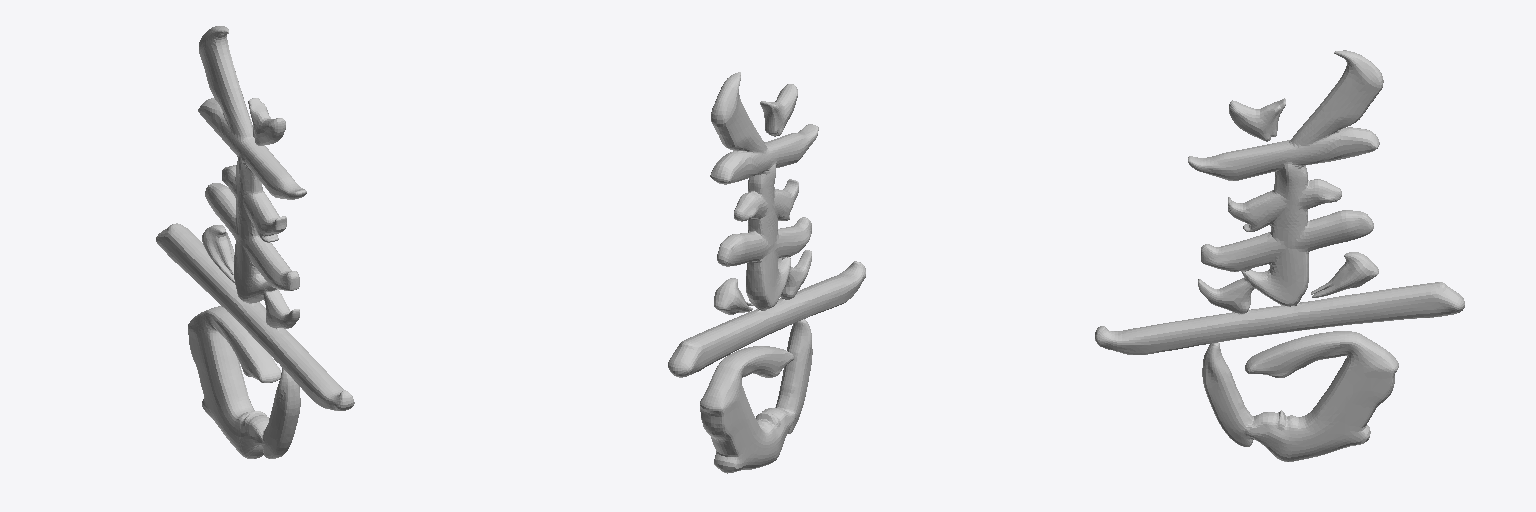
3 views of the same model, side by side, from view 1: azimuth 30°, elevation 25°; view 2: azimuth 150°, elevation 25°; view 3: azimuth 270°, elevation 25° (orthographic).
Parts seen in each view (by area): view 1: tripo_node_184fd539-cbdd-4ba3-a321-fec2ba57341b; view 2: tripo_node_184fd539-cbdd-4ba3-a321-fec2ba57341b; view 3: tripo_node_184fd539-cbdd-4ba3-a321-fec2ba57341b.
Part boxes in pixels (x1,y1,x2,y2): tripo_node_184fd539-cbdd-4ba3-a321-fec2ba57341b: (156,26,354,458); tripo_node_184fd539-cbdd-4ba3-a321-fec2ba57341b: (668,72,865,473); tripo_node_184fd539-cbdd-4ba3-a321-fec2ba57341b: (1095,50,1464,461).
Size of the model in its own units: 0.0724 by 0.9995 by 0.8199.